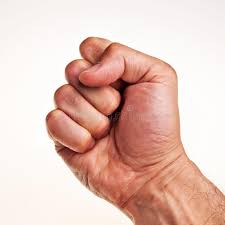fist: (54, 40, 195, 201)
